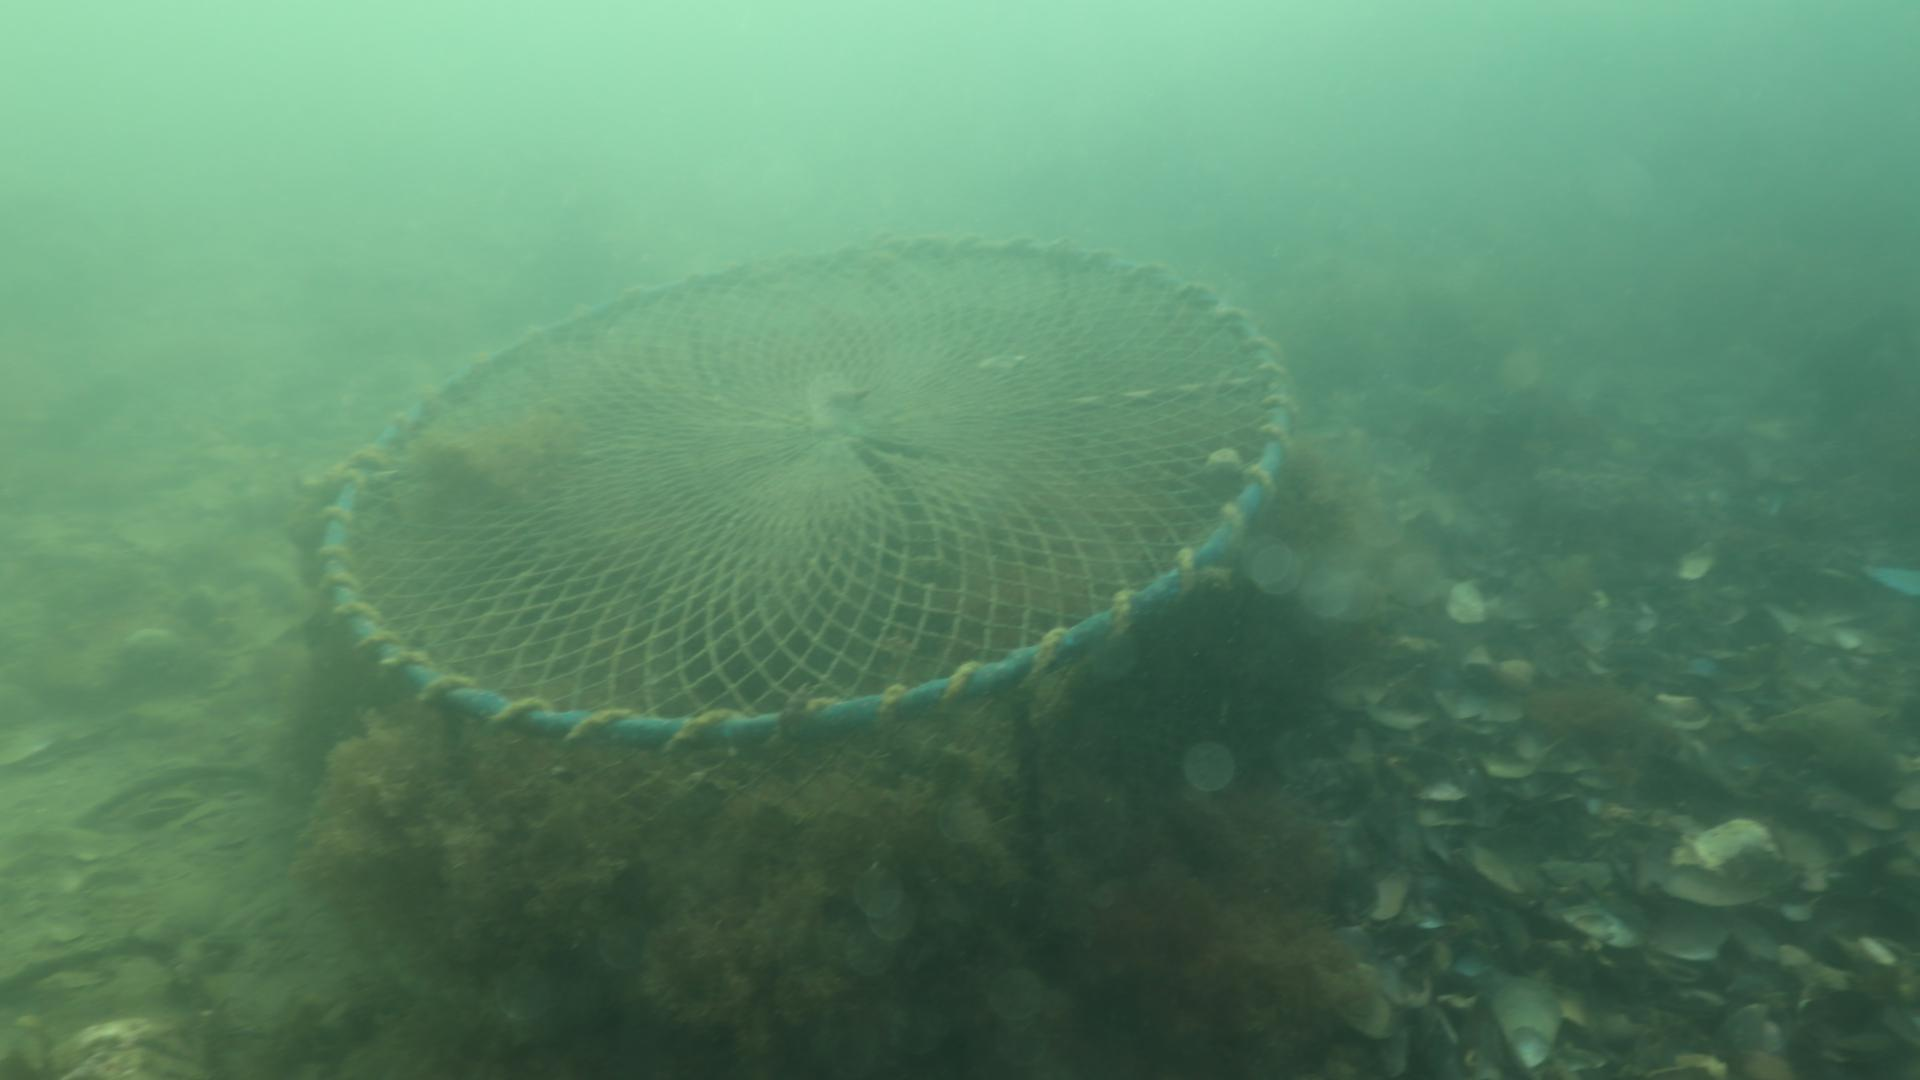circular fish trap: (313, 228, 1298, 945)
